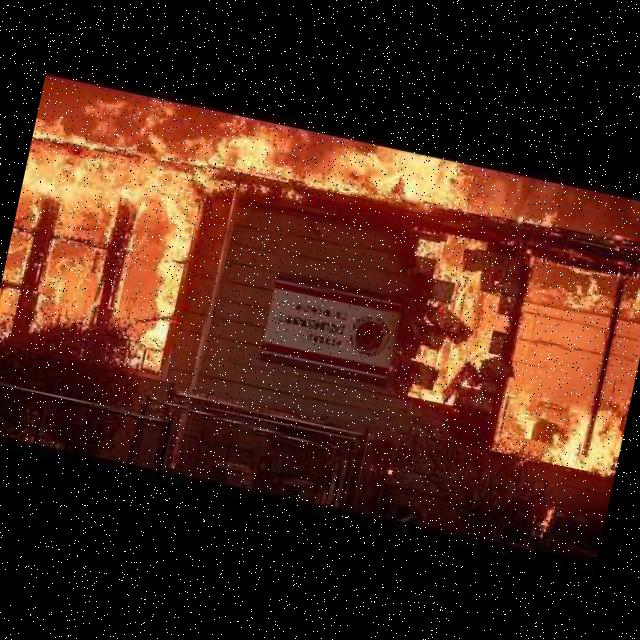fire: (0, 71, 640, 475)
